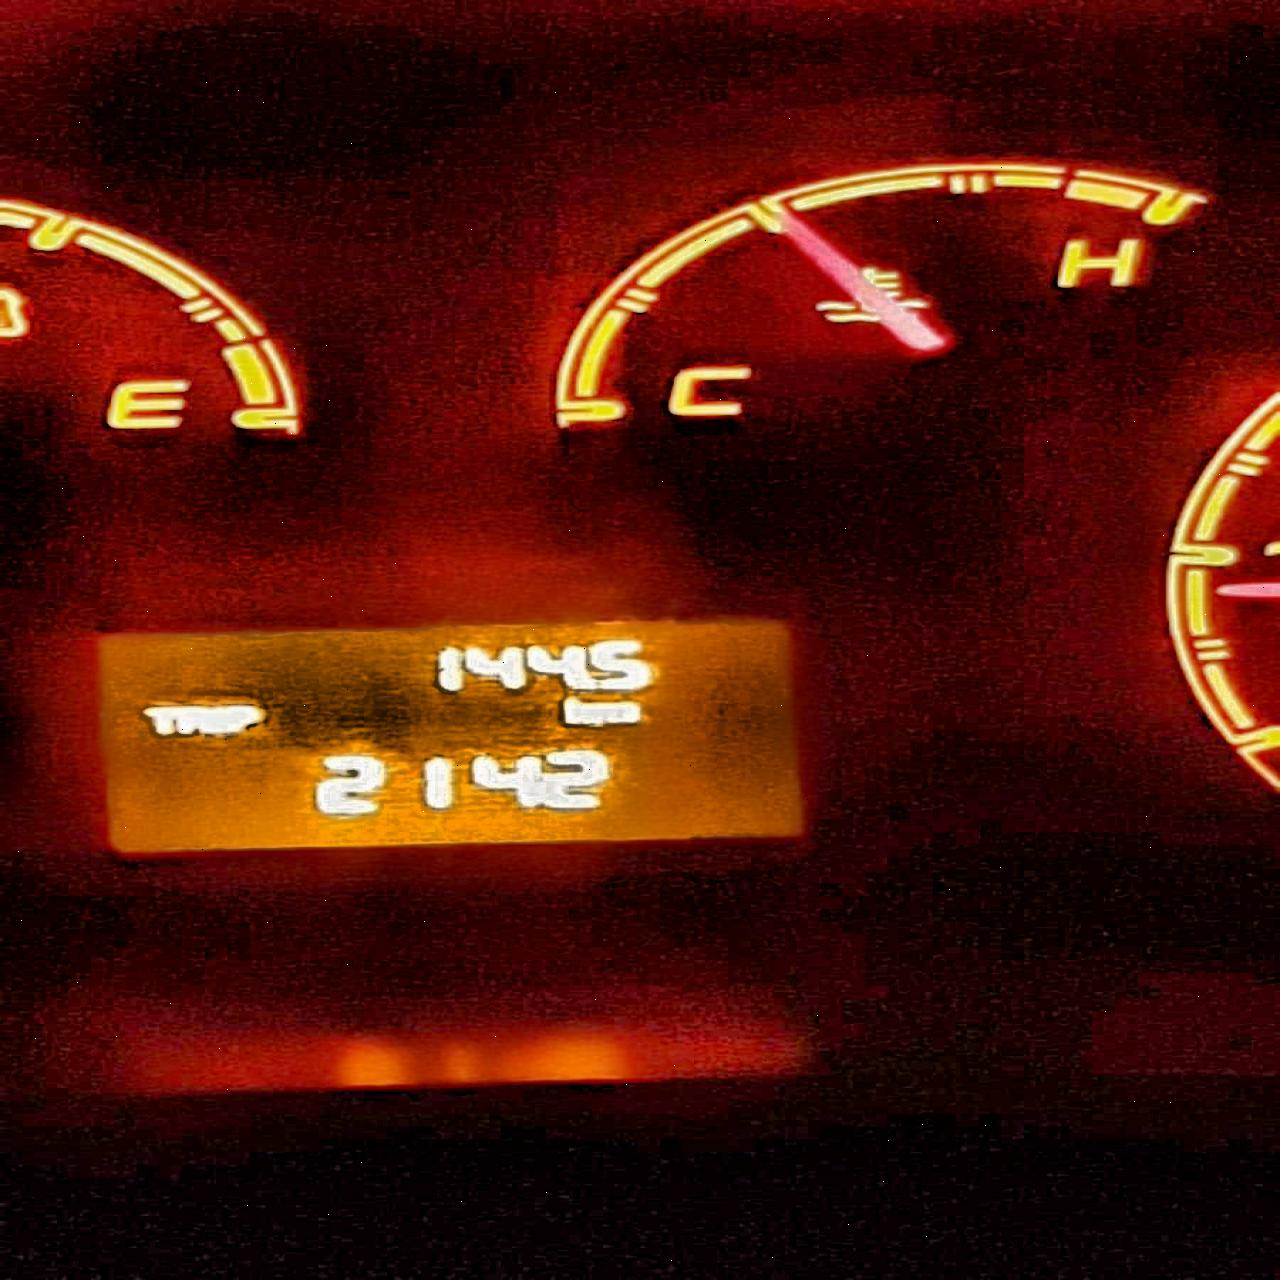1: (418, 753, 455, 811), (431, 646, 464, 693)
2: (312, 754, 388, 816), (539, 748, 612, 806)
4: (468, 754, 542, 809), (465, 644, 525, 690), (525, 645, 587, 689)
5: (588, 639, 653, 690)
X: (594, 699, 641, 726), (560, 695, 595, 727), (227, 703, 264, 734), (176, 706, 212, 735), (141, 707, 175, 736), (212, 704, 226, 735)
odometer: (86, 613, 817, 860)
